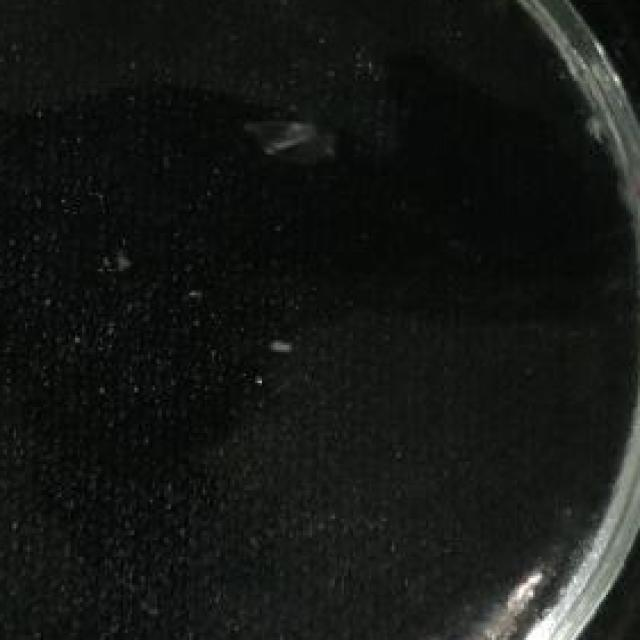Microplastic: (271, 98, 328, 164)
